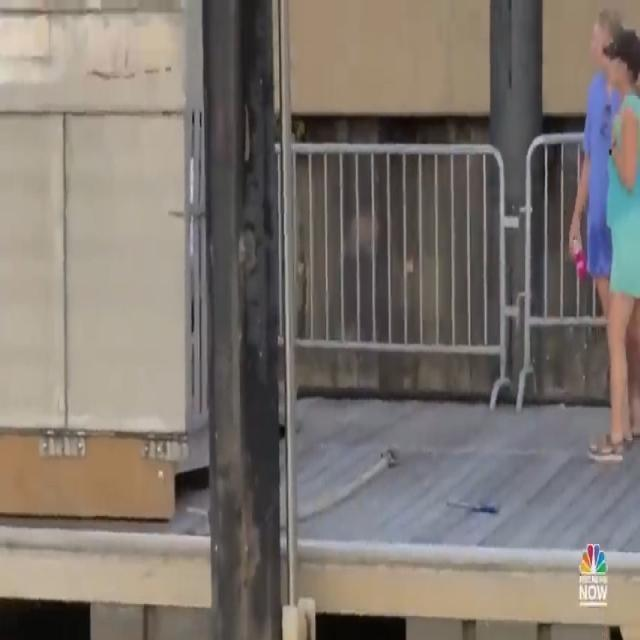non-fight: (562, 1, 640, 486)
